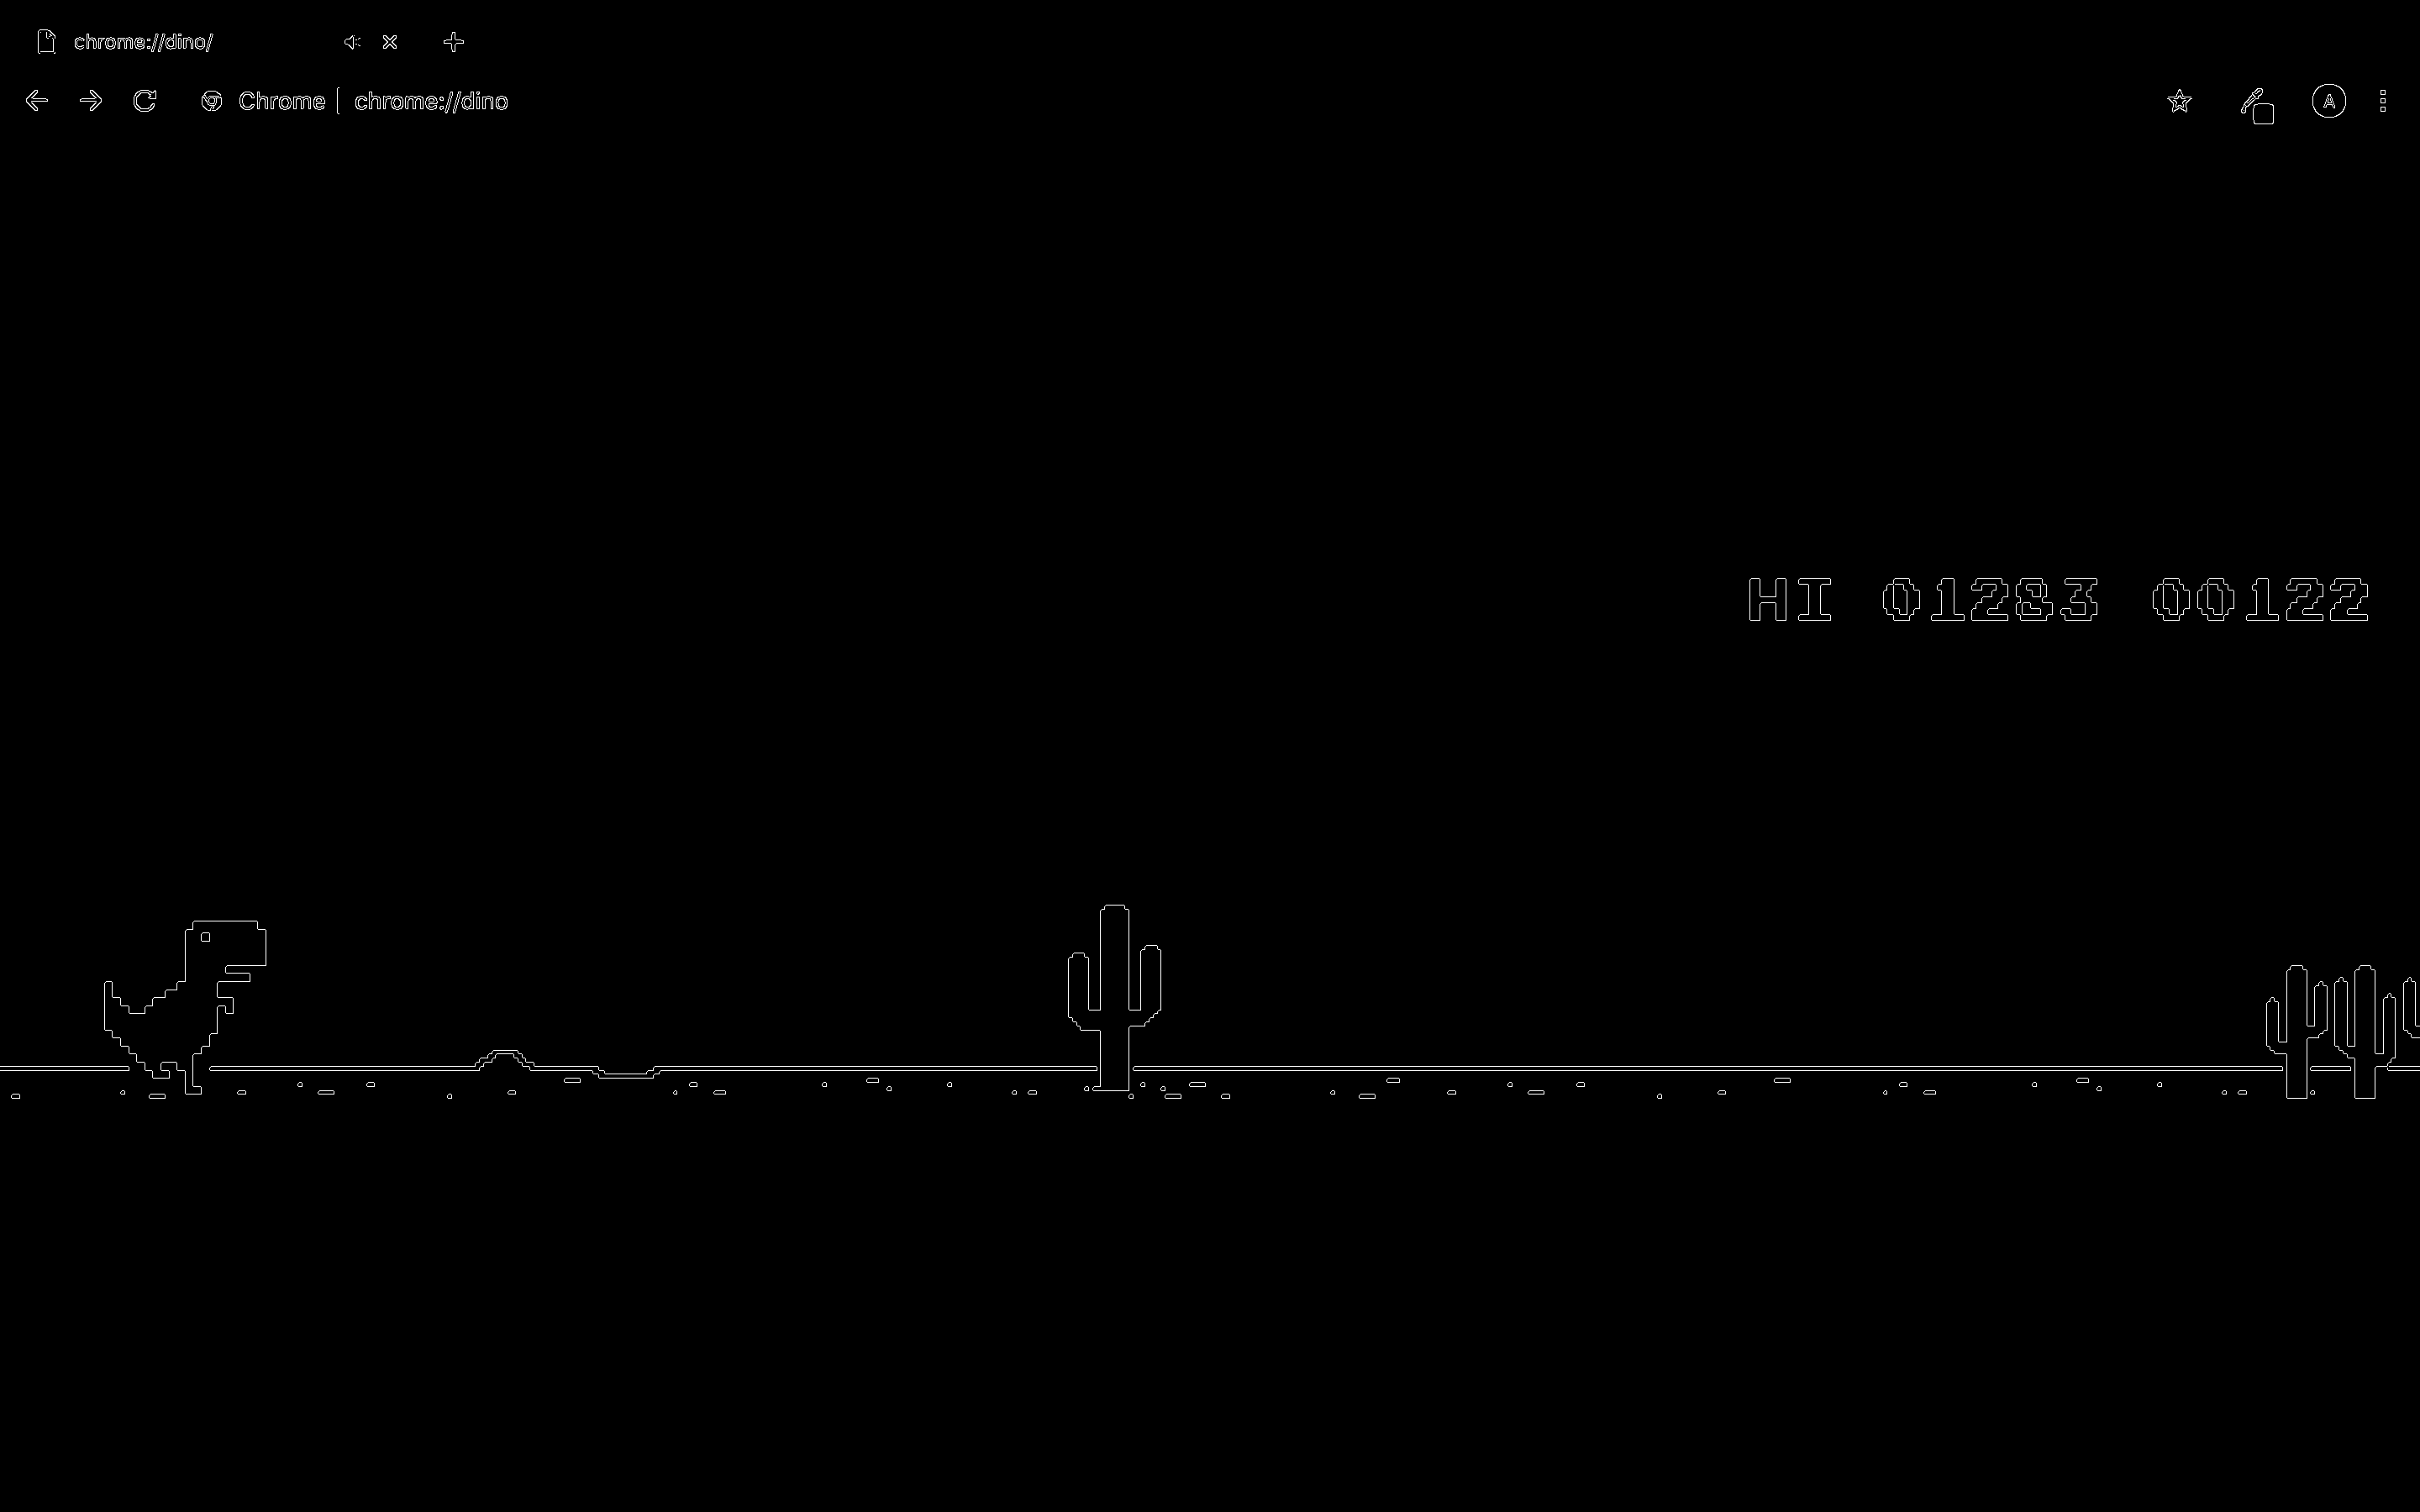Cactus: (1049, 906, 1181, 1092), (2265, 967, 2329, 1097), (2333, 969, 2397, 1097)
Dino: (106, 918, 274, 1092)
